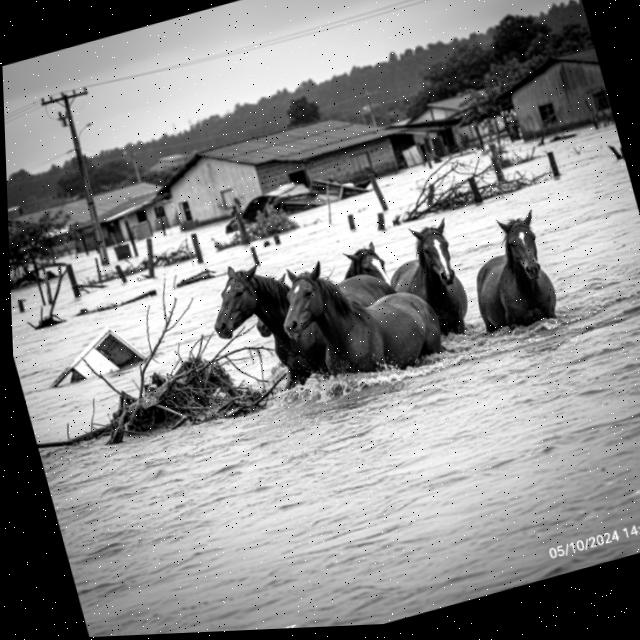horse: (258, 234, 459, 401), (196, 242, 344, 408), (448, 201, 578, 342), (380, 217, 476, 353), (333, 237, 408, 314)
